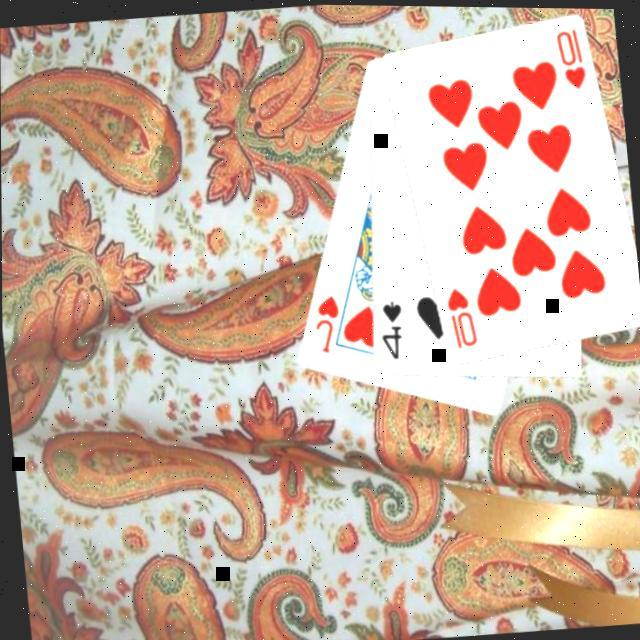10H: (443, 282, 482, 351), (552, 23, 591, 92)
4S: (374, 296, 410, 363)
JH: (310, 291, 346, 357)
